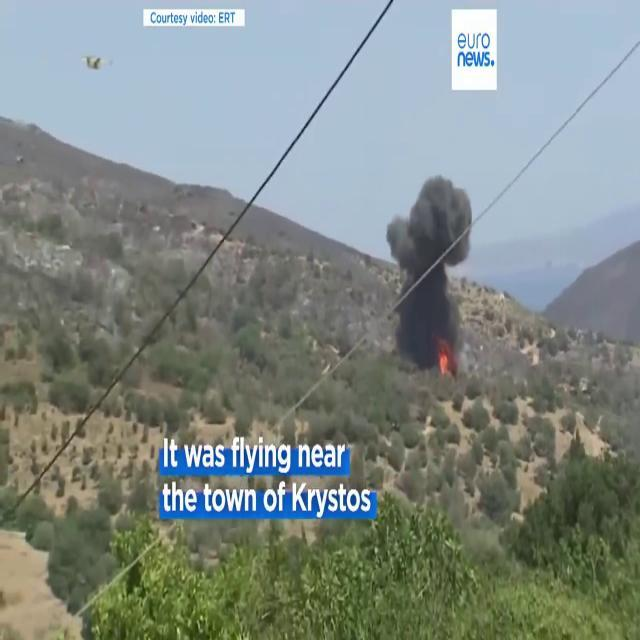Smoke: (382, 160, 478, 360)
